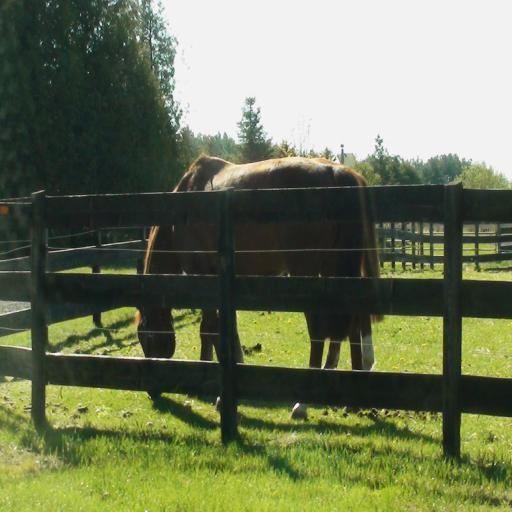horse: (132, 151, 380, 421)
